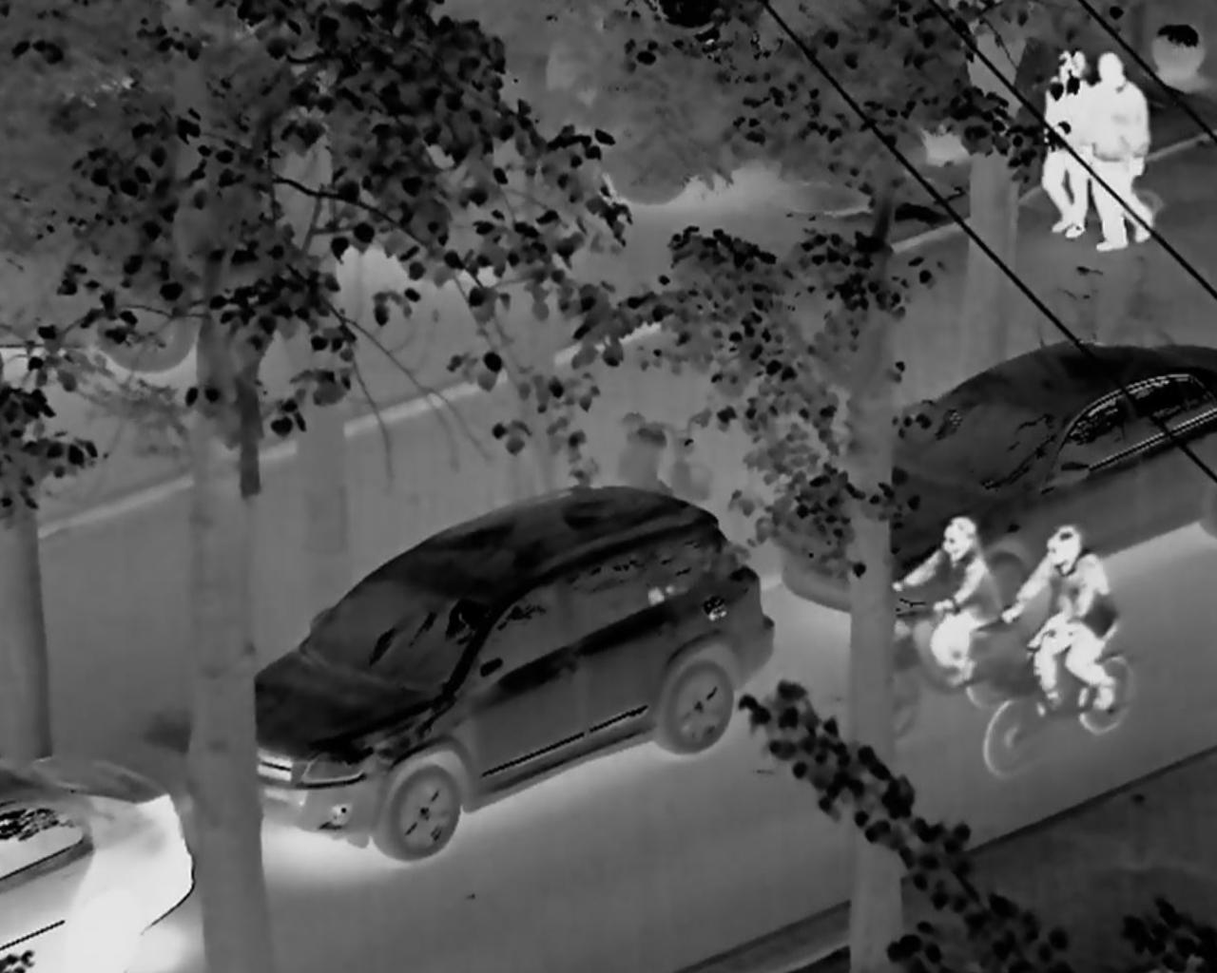person: (995, 505, 1141, 771), (875, 508, 1010, 716), (1020, 34, 1100, 254), (1092, 48, 1173, 256)
